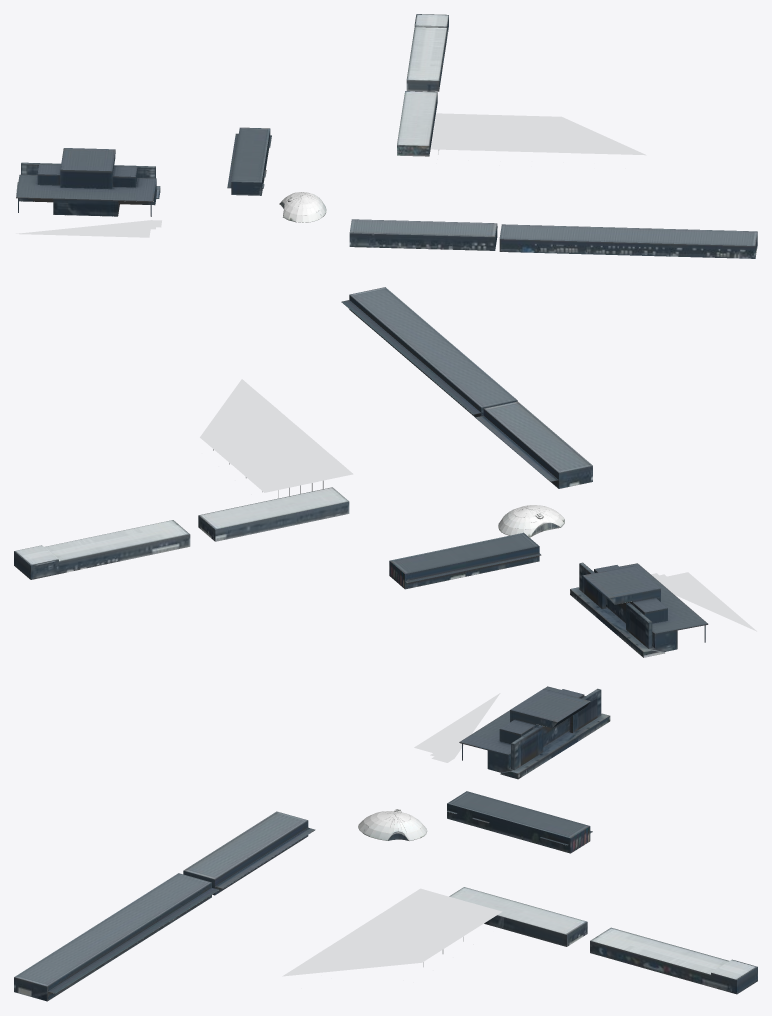
3 views of the same model, one above another, from view 1: azimuth 30°, elevation 25°; view 2: azimuth 150°, elevation 25°; view 3: azimuth 270°, elevation 25° (orthographic). The views are drawn at different scales.
Parts seen in each view (by area): view 1: Buildings_建物パビリオン; view 2: Buildings_建物パビリオン; view 3: Buildings_建物パビリオン.
Part boxes in pixels (<box>): Buildings_建物パビリオン: <box>16,14,757,258</box>; Buildings_建物パビリオン: <box>14,287,756,657</box>; Buildings_建物パビリオン: <box>14,686,757,1001</box>.
Bounding box in the file's own units: 239 × 15.03 × 242.
8 materials, 7 textured.
